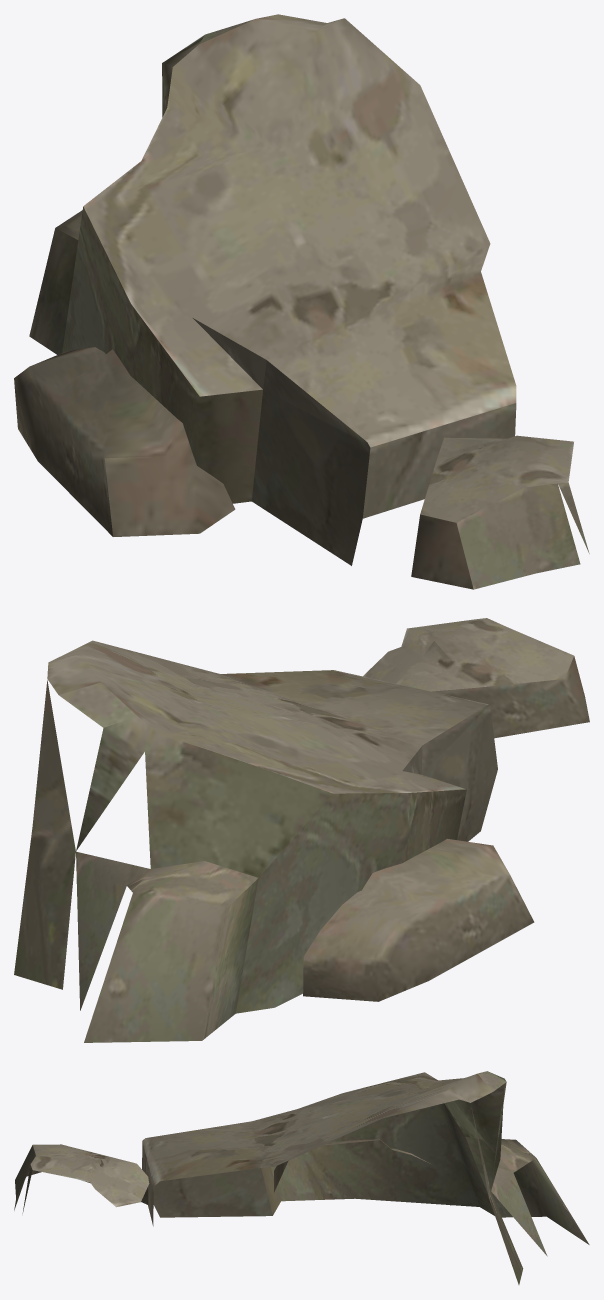
File: shitpi_02.FBX
3 renders of one model, top to bottom at view 1: azimuth 30°, elevation 25°; view 2: azimuth 150°, elevation 25°; view 3: azimuth 270°, elevation 25°, orthographic. The views are drawn at different scales.
Parts seen in each view (by area): view 1: shitpi_02; view 2: shitpi_02; view 3: shitpi_02.
Part boxes in pixels (x1,y1,x2,y2): shitpi_02: [14, 14, 589, 589]; shitpi_02: [14, 618, 589, 1042]; shitpi_02: [14, 1071, 589, 1284].
Size of the model in its own units: 1.01 by 0.7641 by 2.06.
